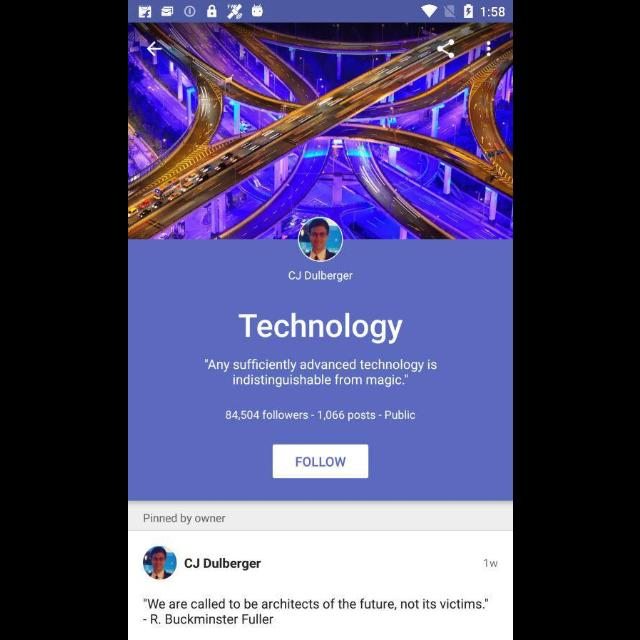icon: (436, 40, 454, 59), (146, 42, 162, 58), (485, 42, 491, 58)
image: (128, 24, 512, 240), (296, 216, 344, 264), (142, 546, 176, 580)
text: (142, 598, 488, 630), (203, 358, 437, 388), (237, 312, 403, 346), (225, 409, 415, 421), (184, 557, 262, 571), (143, 513, 225, 525), (287, 270, 353, 282), (482, 558, 498, 568)
textbutton: (272, 444, 368, 478)
uppertaskbar: (128, 1, 512, 23)
